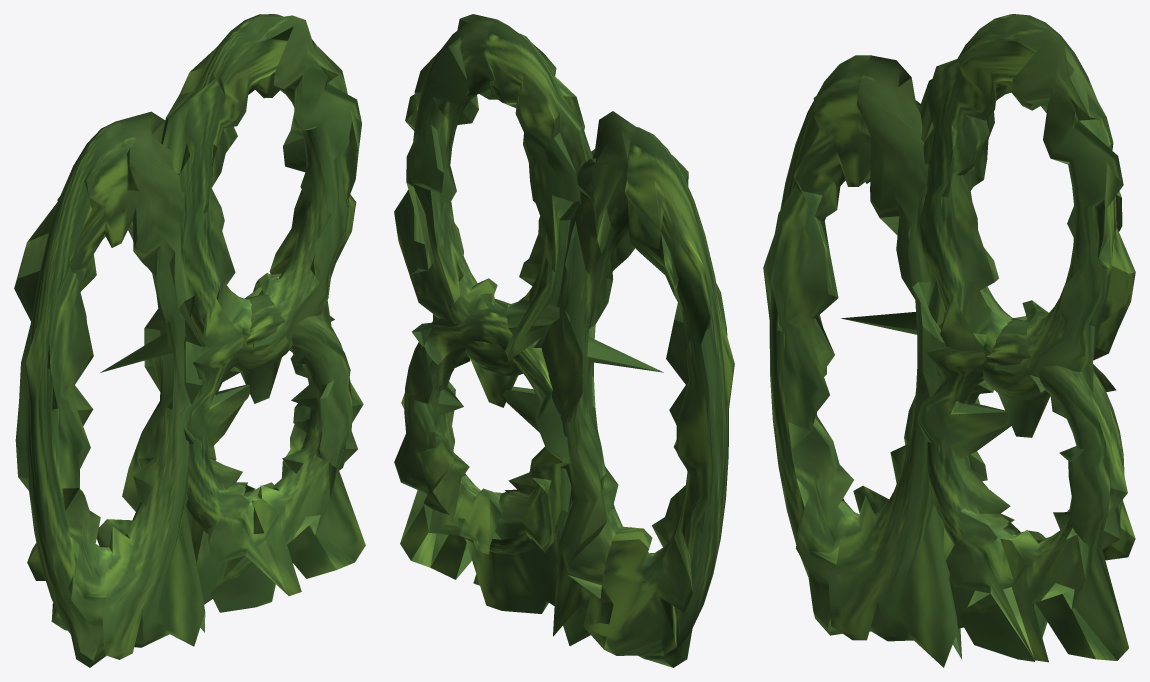
Rendered from sea plant.fbx.
3 renders of one model, left to right at view 1: azimuth 30°, elevation 25°; view 2: azimuth 150°, elevation 25°; view 3: azimuth 330°, elevation 25°, orthographic. The views are drawn at different scales.
Visible parts, largest first — view 1: Torus_3; view 2: Torus_3; view 3: Torus_3.
Boxes of the visible parts, x1,y1,x2,y2 form: Torus_3: (14,14,365,667); Torus_3: (394,14,734,667); Torus_3: (763,14,1135,667).
Bounding box in the file's own units: 858 × 1487 × 139.
1 material, 1 textured.
